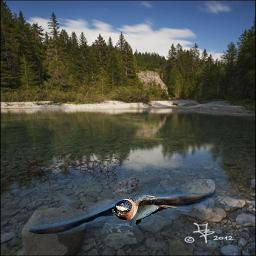Swallow: (27, 185, 217, 234)
